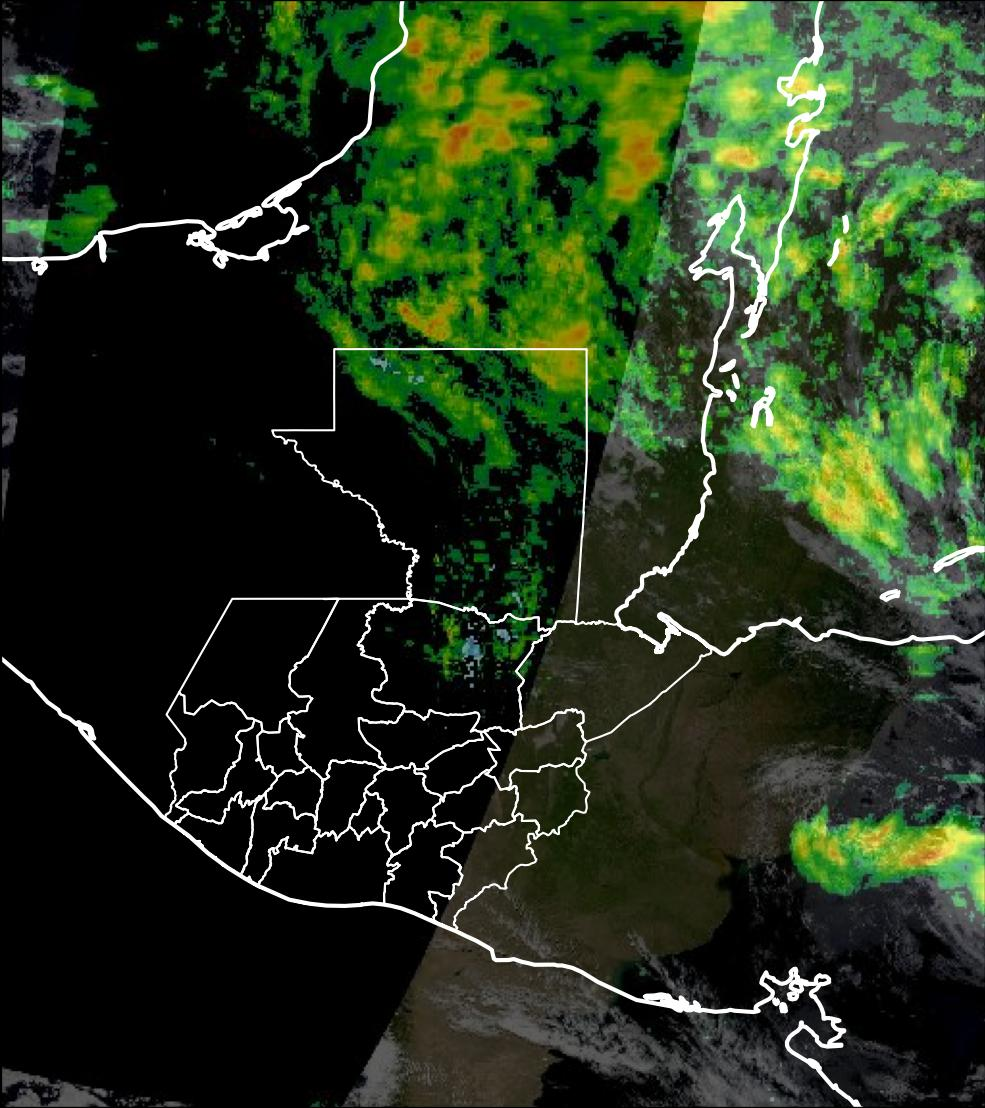precipitacion: (594, 120, 663, 212), (436, 116, 530, 163)
